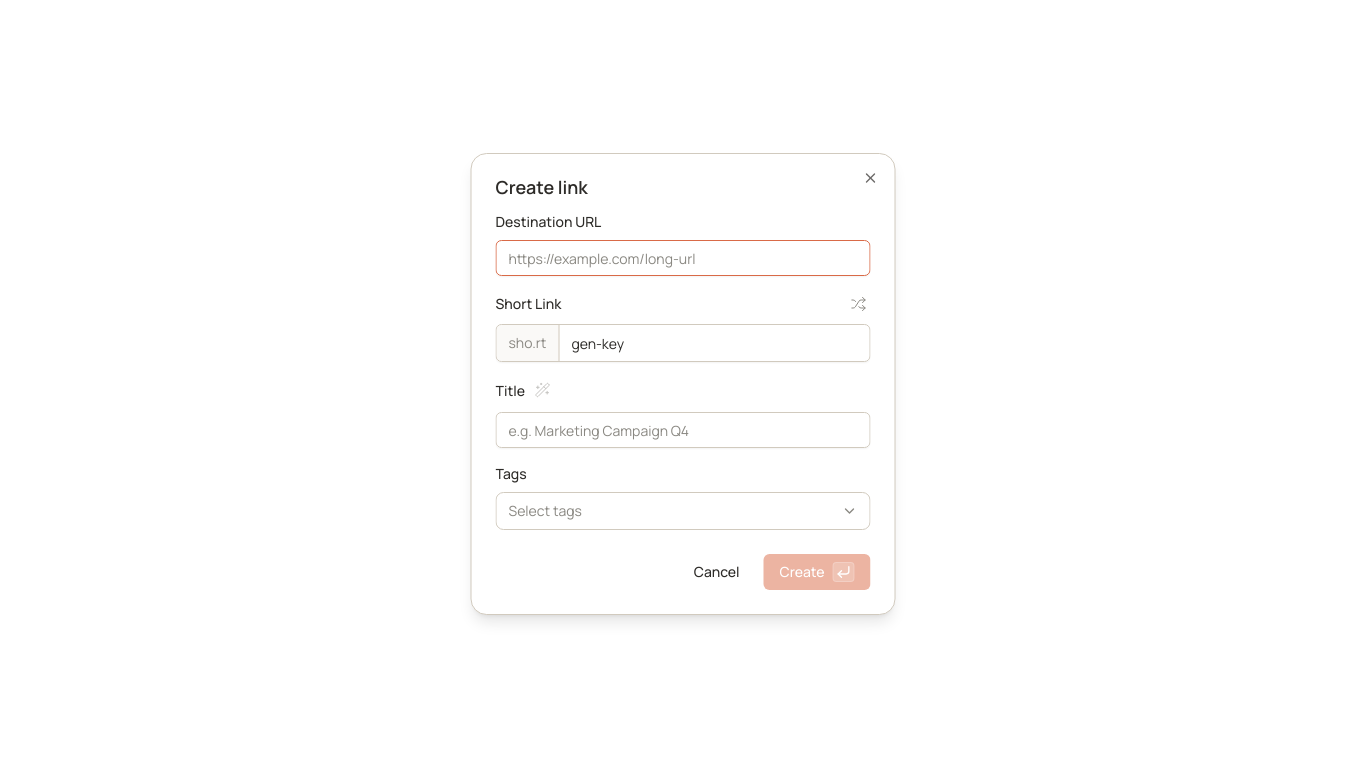
Test: CreateLinkModal › posts the new link and shows the created short URL
Type "https://example.com/article" into the field labelled "Destination URL". click: {"x": 683, "y": 258}
box: [496,240,870,276]
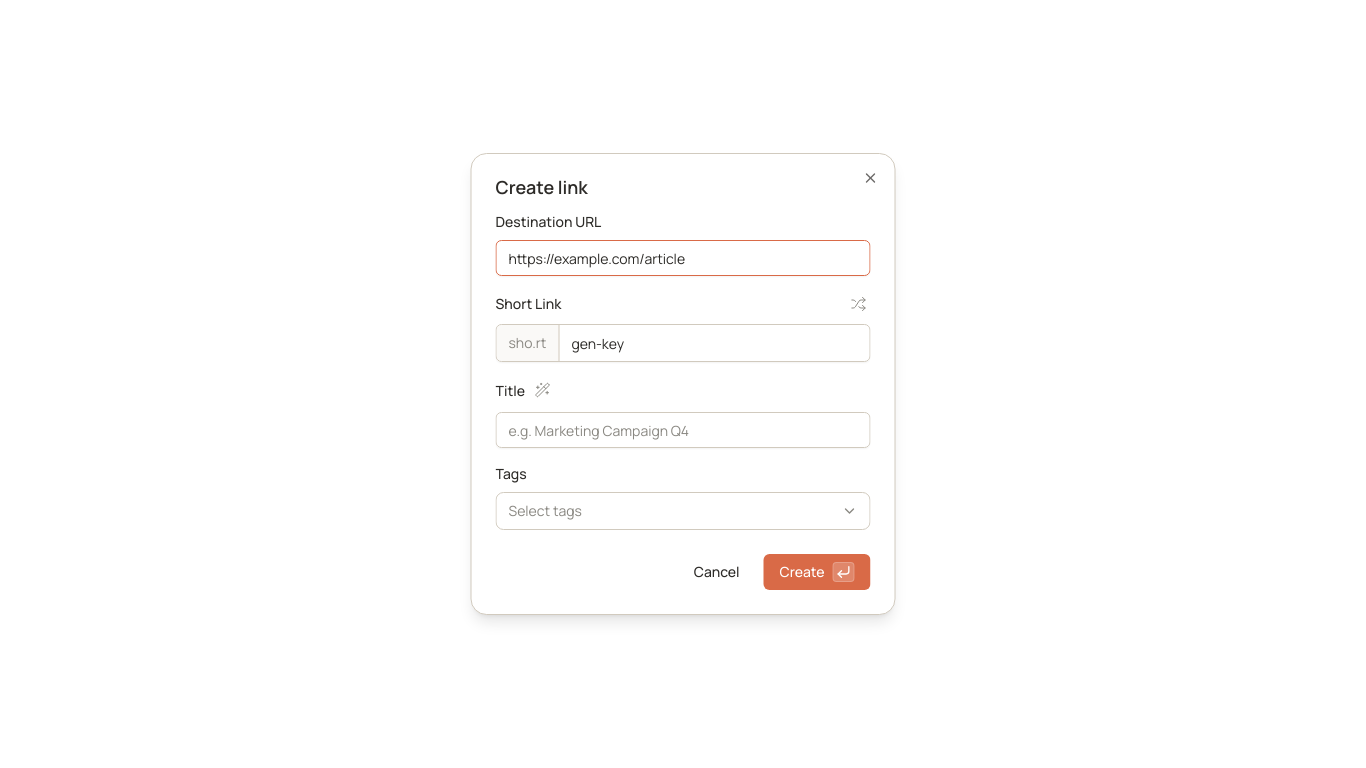
Expected: the field labelled "Short Link" holds "gen-key", [559,325,870,361]
Click the button "Create". click: {"x": 817, "y": 572}
box: [764,554,870,590]
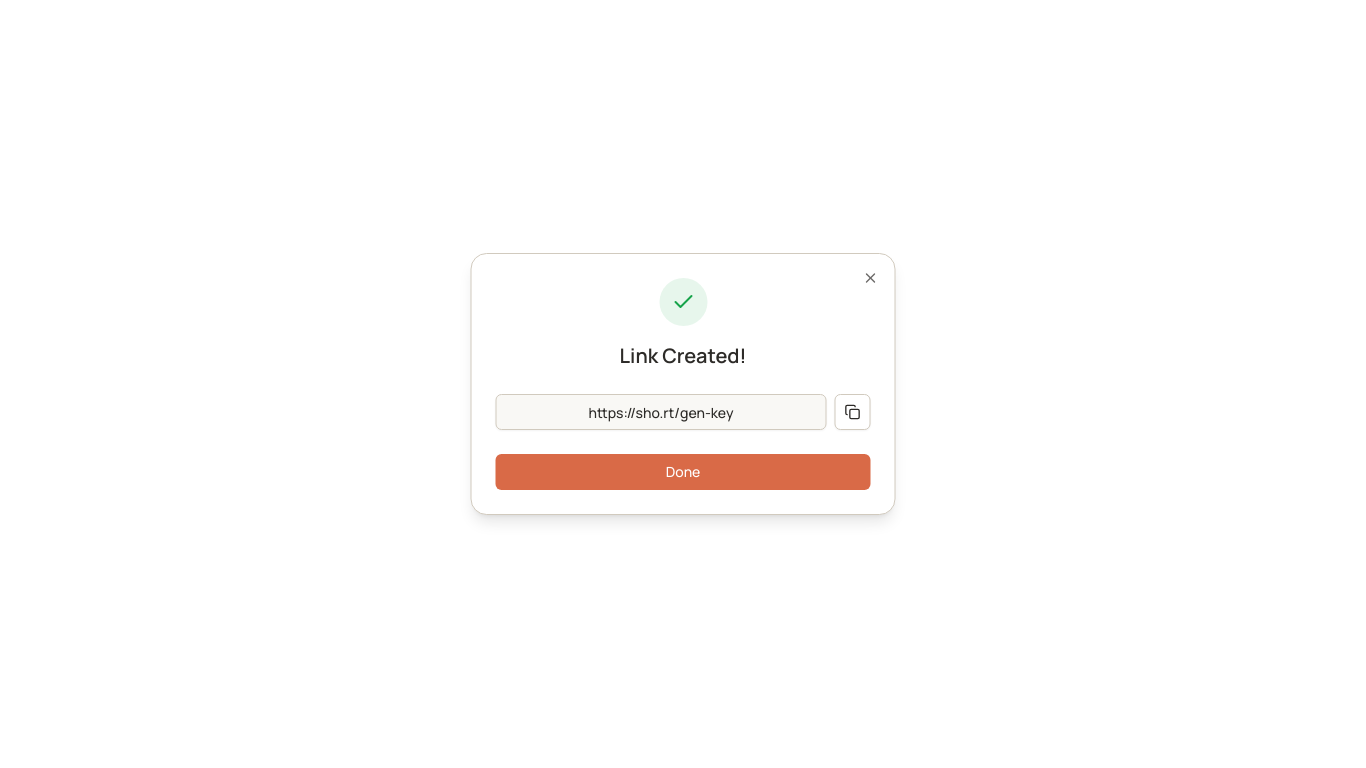
Result: the heading "Link Created!" is shown at [620,342,746,369]
